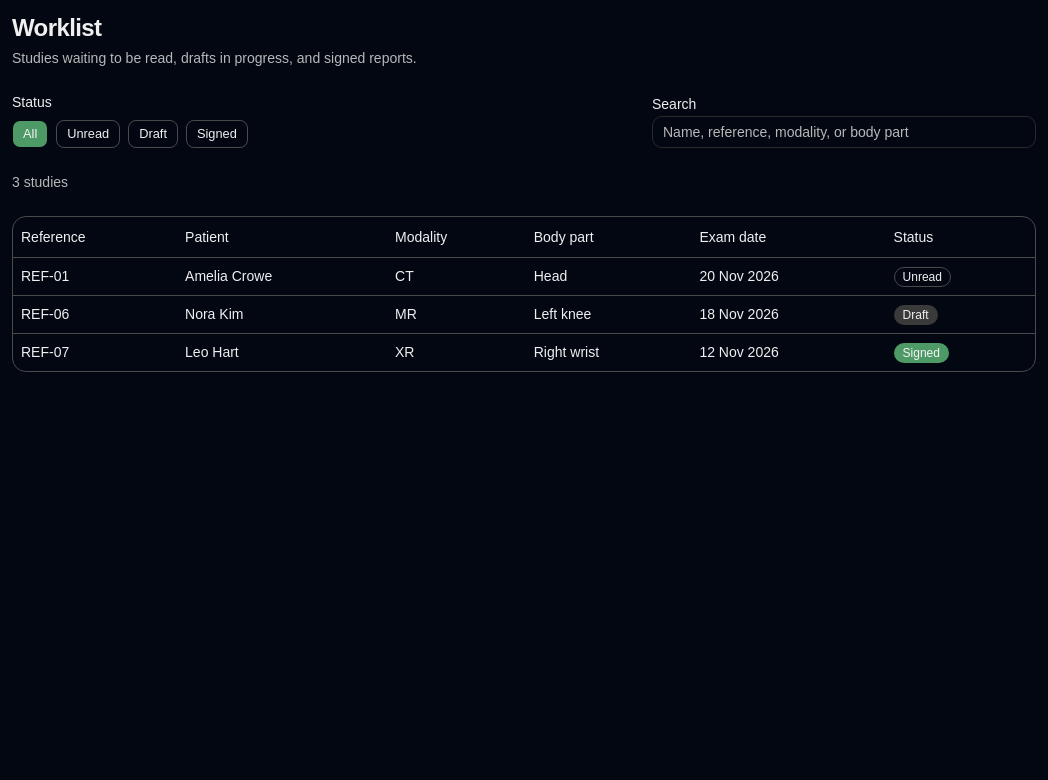
Test: renders the worklist and opens a study
The image size is (1048, 780).
Expected: the heading "Worklist" is shown, x1=12 y1=14 x2=102 y2=41
Expected: the text "Nora Kim" is shown, x1=177 y1=295 x2=387 y2=333
Click the radio button labelled "Unread" at [88, 134], box x1=56 y1=120 x2=120 y2=148
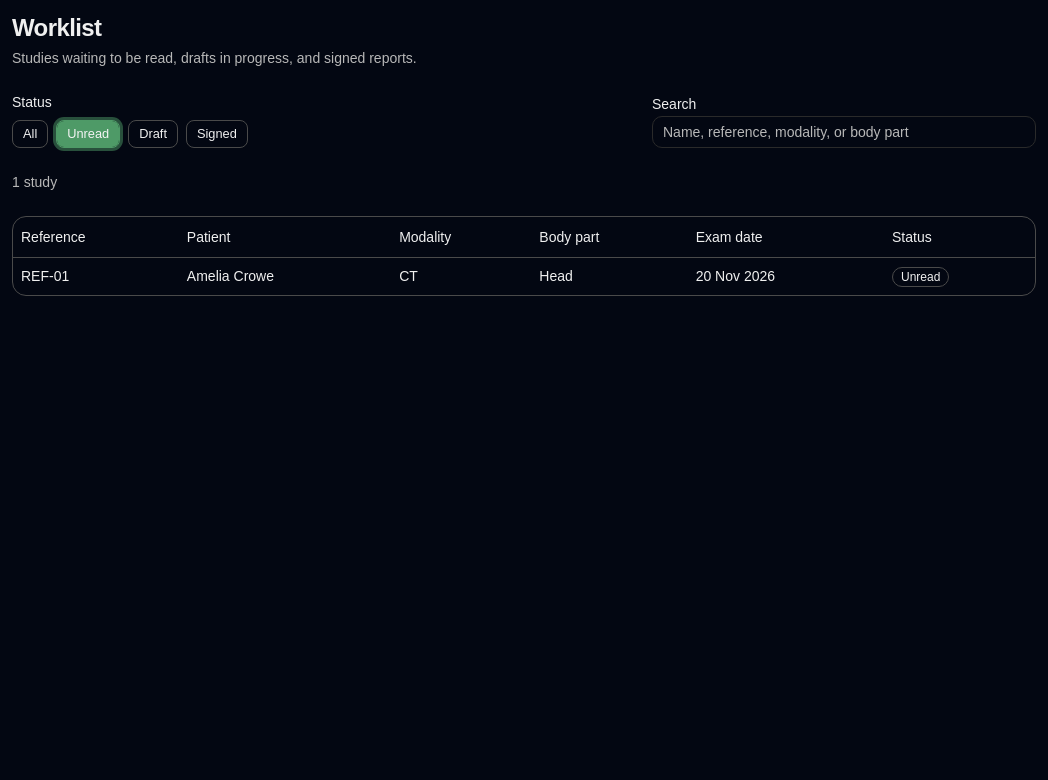
Expected: the text "Amelia Crowe" is shown, x1=179 y1=257 x2=391 y2=294
Expected: the text "Nora Kim" is gone
Click the radio button labelled "All" at [30, 134], box x1=12 y1=120 x2=48 y2=148
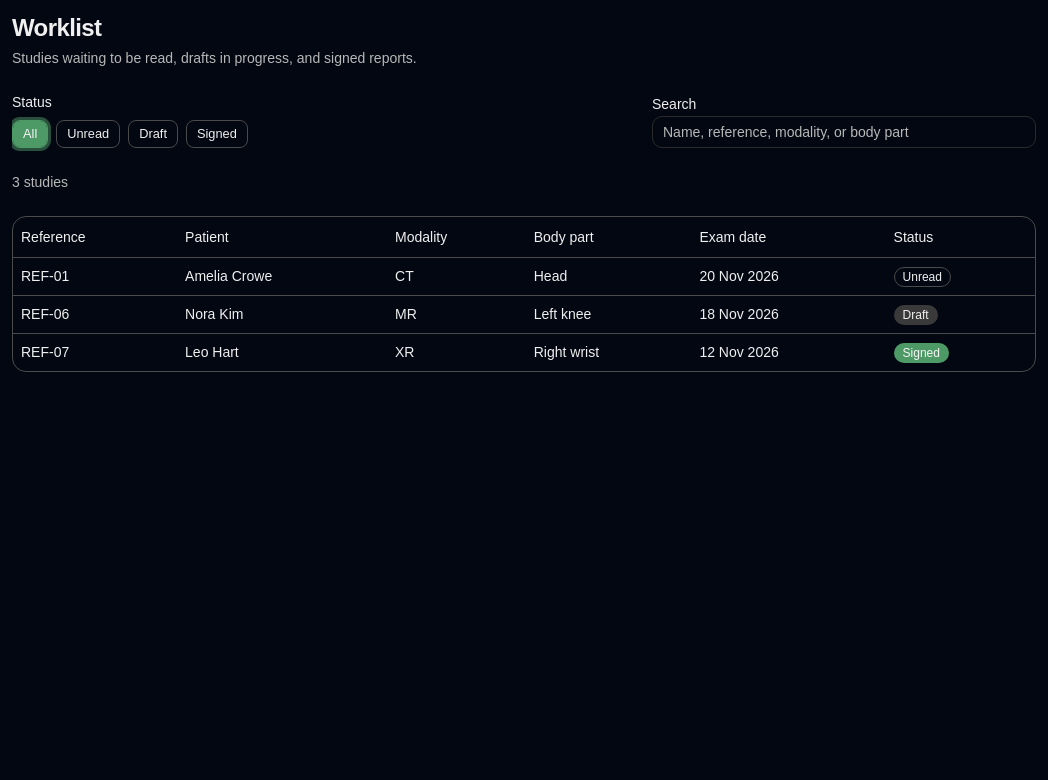
Type "knee" into the field labelled "Search" at [844, 132], box x1=652 y1=116 x2=1036 y2=148
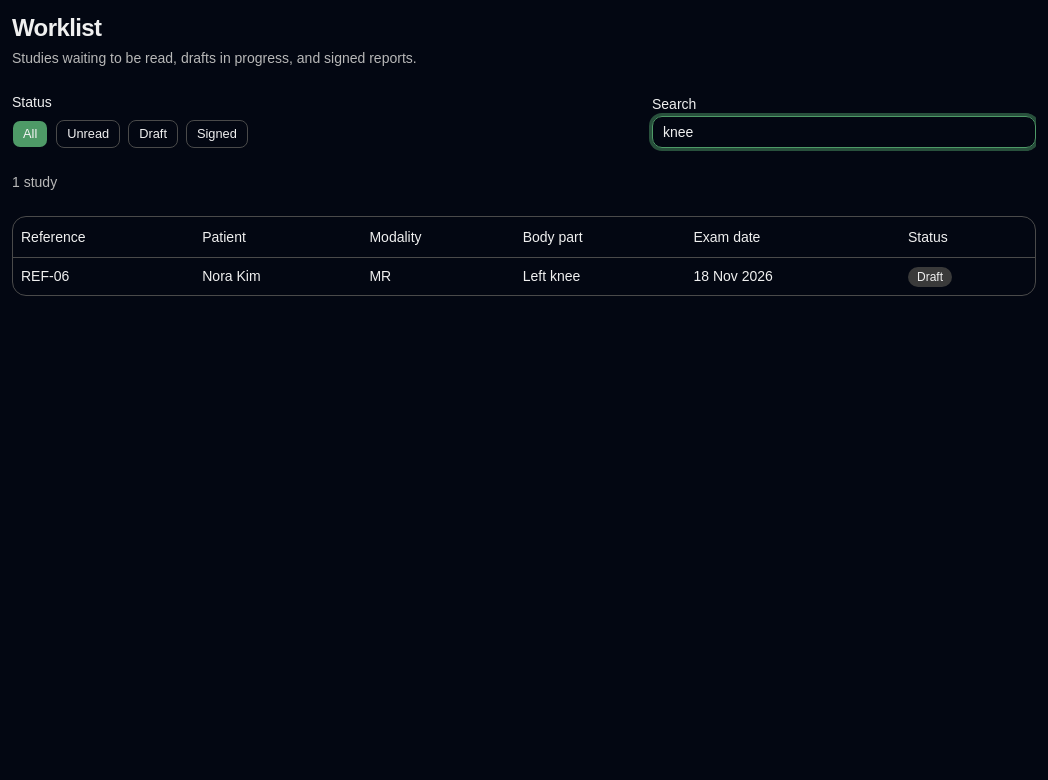
Expected: the text "Nora Kim" is shown, x1=194 y1=257 x2=361 y2=294
Expected: the text "Amelia Crowe" is gone
Clear the field labelled "Search" at [844, 132], box x1=652 y1=116 x2=1036 y2=148
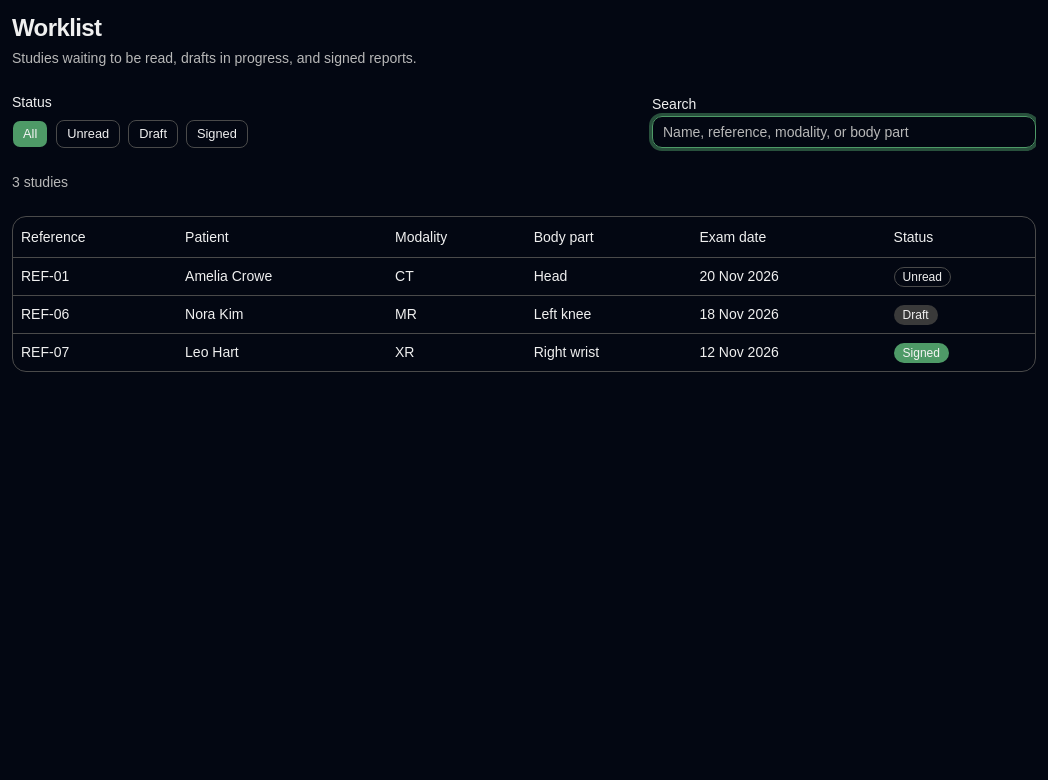
Click the link named "Nora Kim" at [45, 314], box x1=21 y1=306 x2=69 y2=322
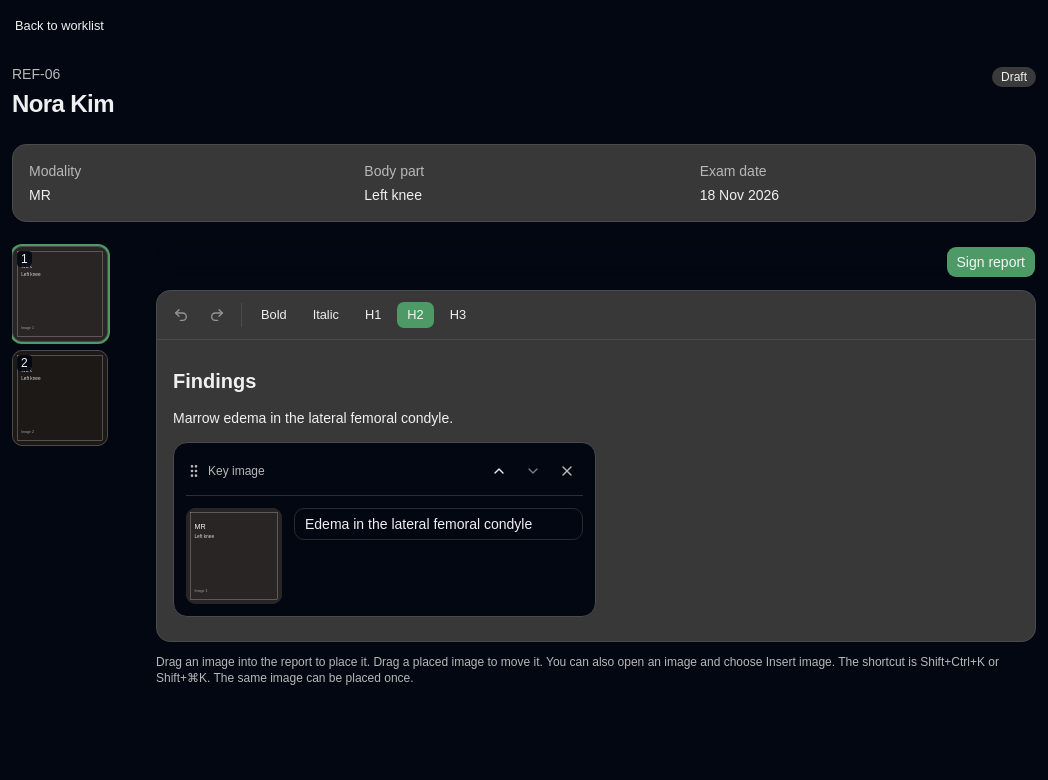
Expected: the heading "Nora Kim" is shown, x1=12 y1=88 x2=114 y2=120
Expected: the heading "Findings" is shown, x1=173 y1=370 x2=256 y2=392
Expected: the field named "Caption" holds "Edema in the lateral femoral condyle", x1=294 y1=508 x2=583 y2=540
